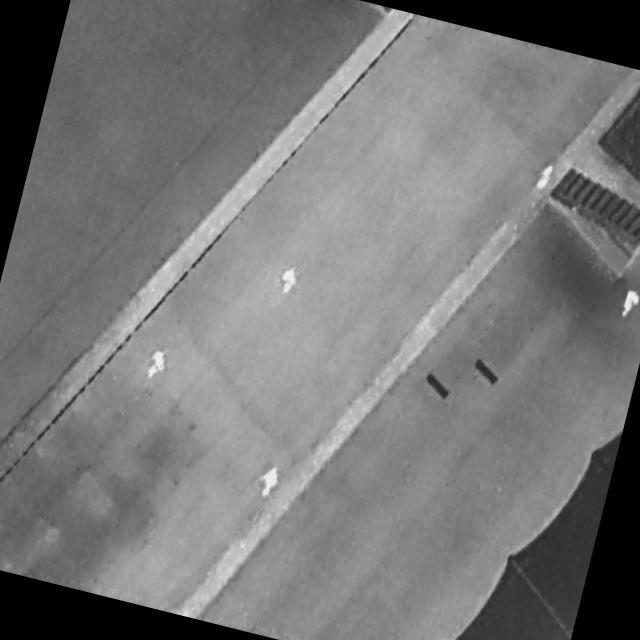person: (251, 458, 284, 504), (140, 344, 174, 385), (531, 157, 560, 200), (616, 283, 640, 323), (275, 263, 302, 298)
